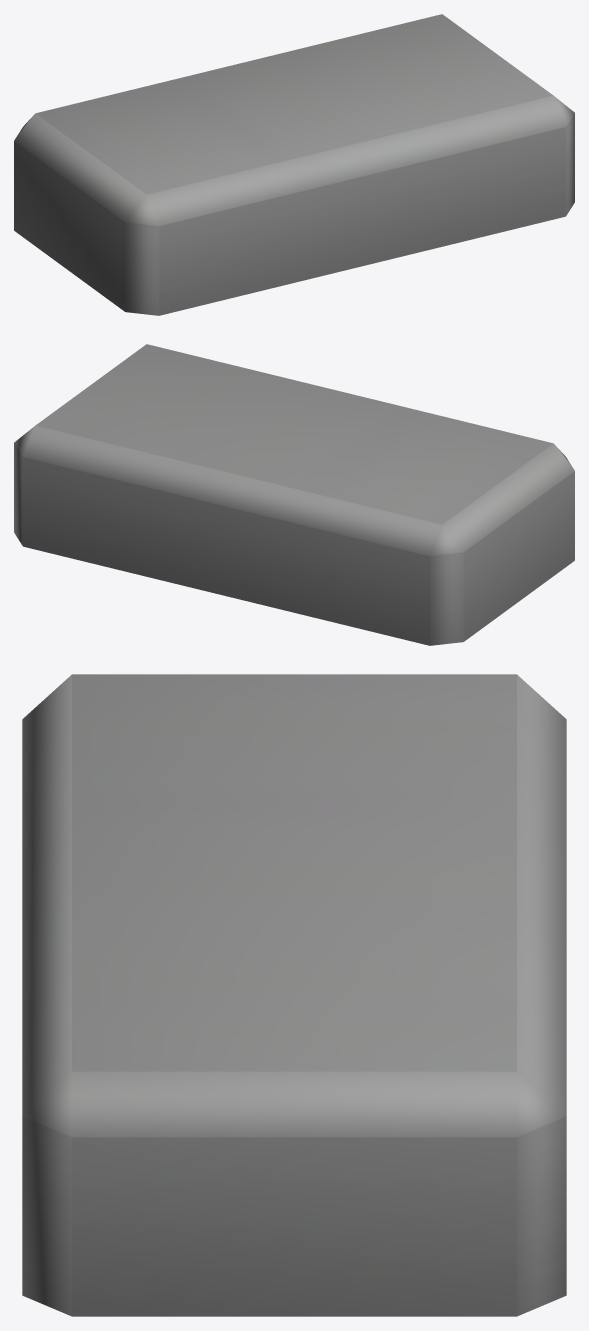
File: floor_divider.fbx
3 renders of one model, top to bottom at view 1: azimuth 30°, elevation 25°; view 2: azimuth 150°, elevation 25°; view 3: azimuth 270°, elevation 25°, orthographic. The views are drawn at different scales.
Parts seen in each view (by area): view 1: floor_divider; view 2: floor_divider; view 3: floor_divider.
Boxes of the visible parts, x1,y1,x2,y2 form: floor_divider: (14,14,574,315); floor_divider: (14,344,574,645); floor_divider: (22,674,566,1316).
Size of the model in its own units: 105 by 25 by 55.
